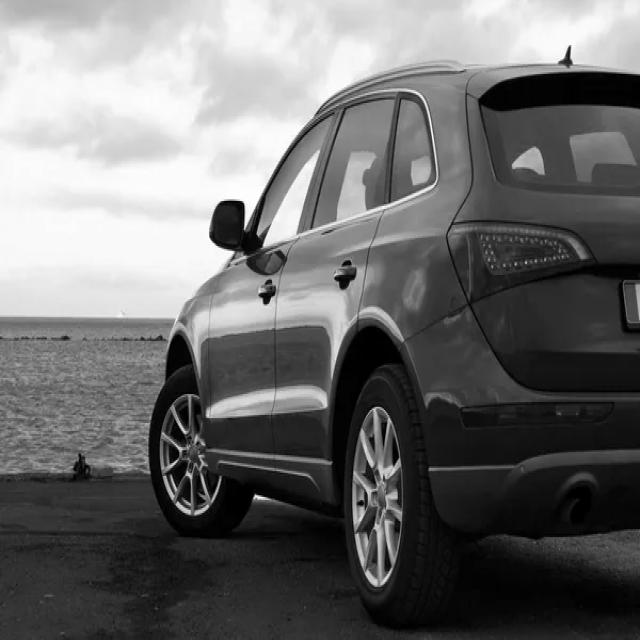Car: (149, 59, 640, 626)
